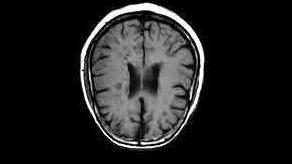Normal_Brain: (27, 1, 234, 164)
